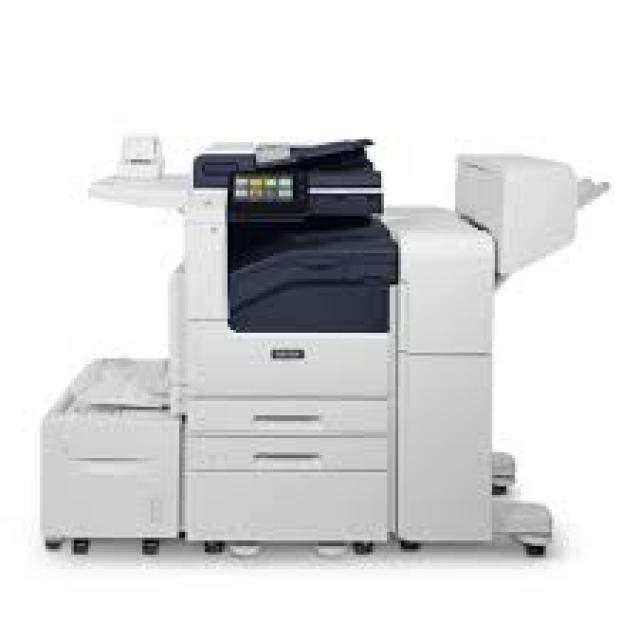printer: (37, 131, 609, 560)
